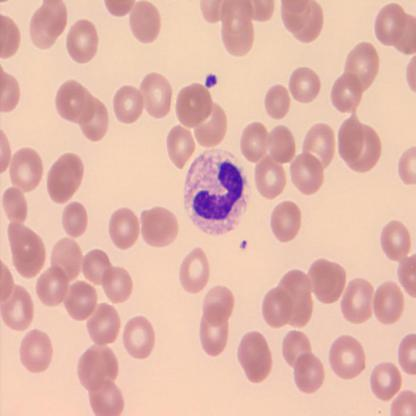Band Neutrophil: (182, 147, 250, 239)
